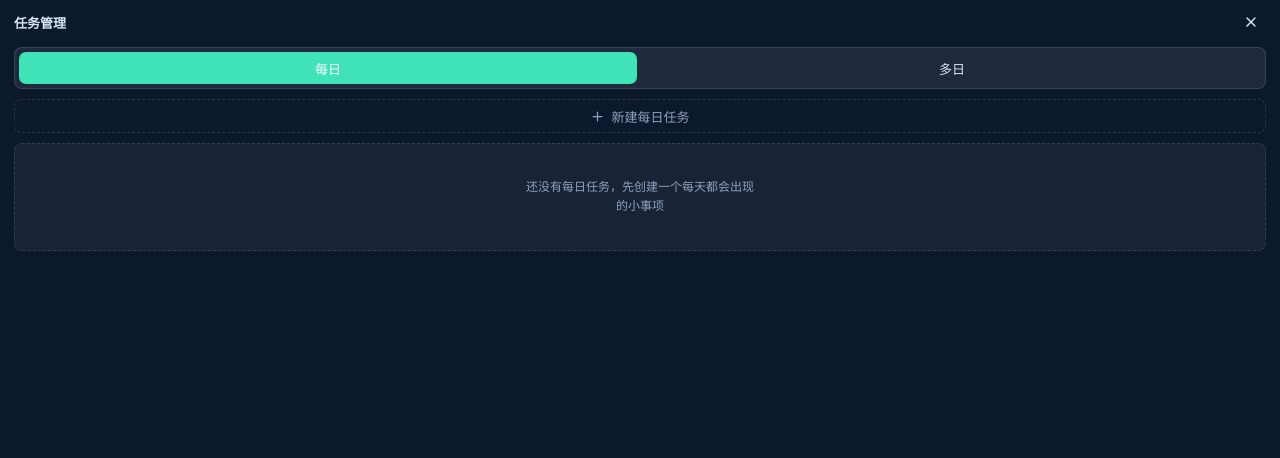
Test: TaskManagePanel › shows a labeled daily creation form with matching submit copy
Click the button "新建每日任务" at (640, 116), box 14,99 -> 1266,133
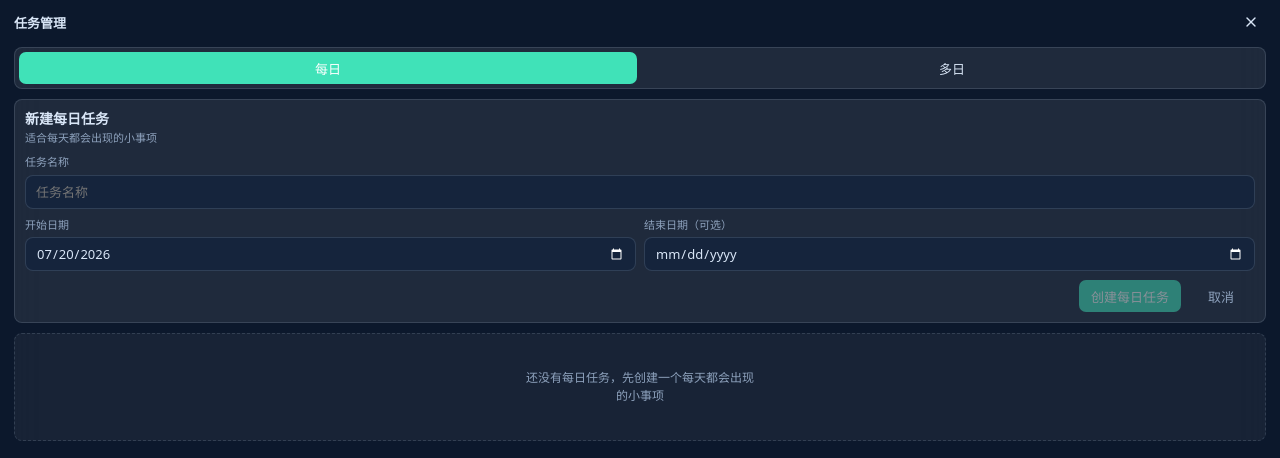
Expected: the date field labelled "开始日期" is shown, 25,237 -> 636,271
Expected: the date field labelled "结束日期（可选）" is shown, 644,237 -> 1255,271
Expected: the button "创建每日任务" is disabled, 1079,280 -> 1181,312
